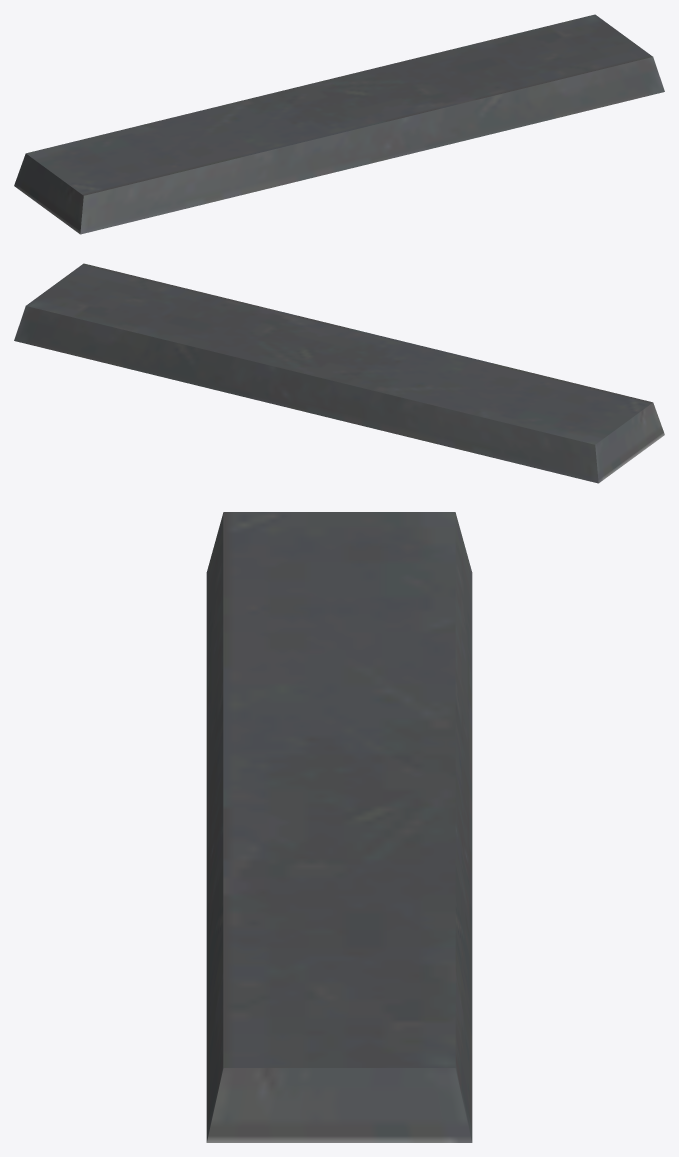
File: lamp.obj
3 views of the same model, one above another, from view 1: azimuth 30°, elevation 25°; view 2: azimuth 150°, elevation 25°; view 3: azimuth 270°, elevation 25° (orthographic). The views are drawn at different scales.
Visible parts, largest first — view 1: lamp; view 2: lamp; view 3: lamp.
Part boxes in pixels (x1,y1,x2,y2): lamp: [14, 14, 664, 234]; lamp: [14, 263, 664, 483]; lamp: [206, 512, 472, 1142].
Bounding box in the file's own units: 1 × 0.0608 × 0.1966.
1 material, 1 textured.
